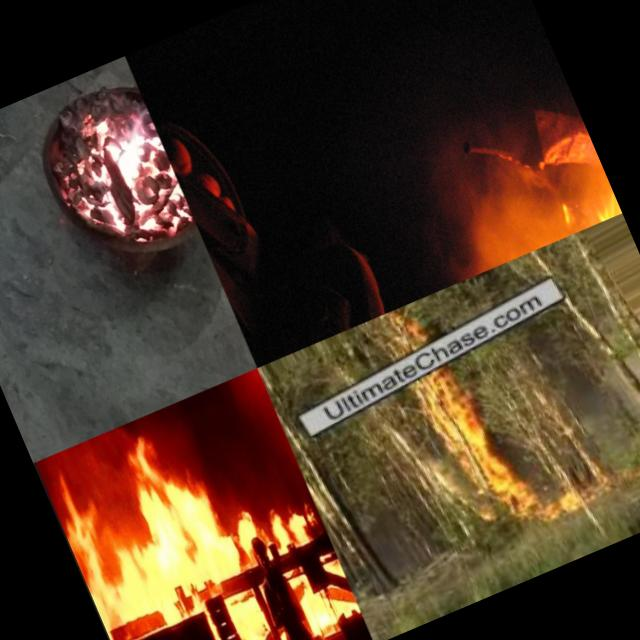fire: (48, 438, 245, 629), (414, 338, 582, 548), (36, 74, 195, 264), (261, 486, 319, 550), (224, 498, 270, 562)
smoke: (411, 121, 579, 282)
